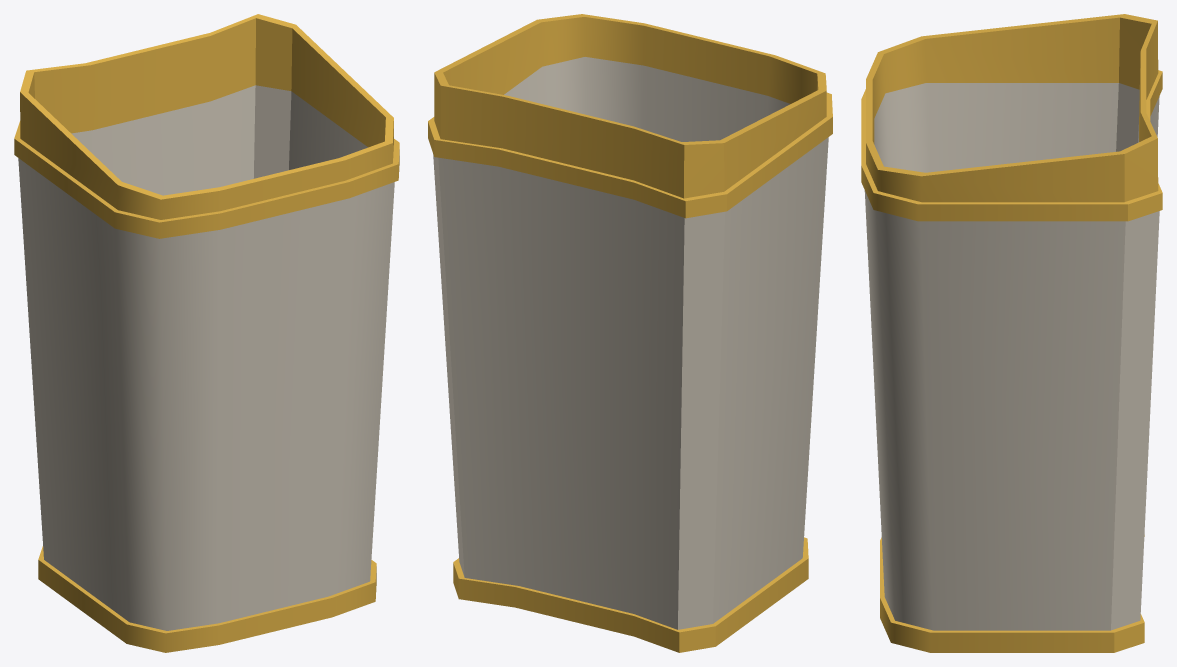
File: bin_c.glb
3 views of the same model, side by side, from view 1: azimuth 30°, elevation 25°; view 2: azimuth 150°, elevation 25°; view 3: azimuth 270°, elevation 25° (orthographic). The views are drawn at different scales.
Parts seen in each view (by area): view 1: body; view 2: body; view 3: body.
Boxes of the visible parts, left/top/right/bottom form: body: left=14, top=14, right=399, bottom=652; body: left=428, top=14, right=832, bottom=652; body: left=861, top=14, right=1162, bottom=652.
Size of the model in its own units: 0.34 by 0.56 by 0.3.
